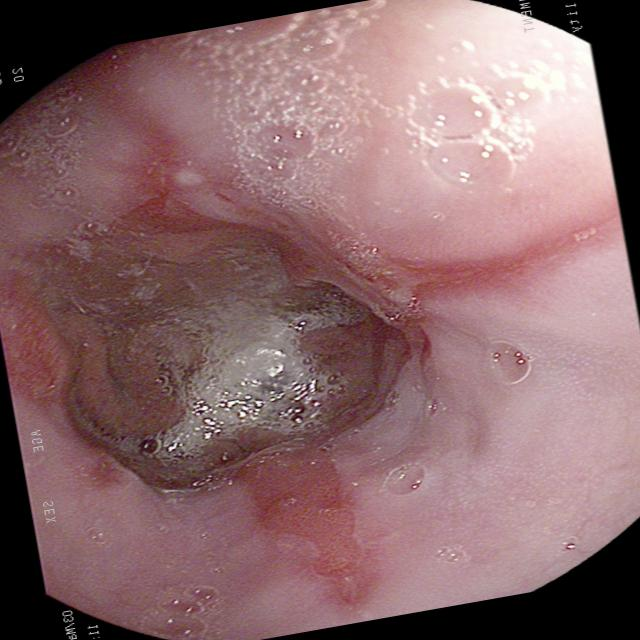esophagitis: (0, 0, 627, 623)
